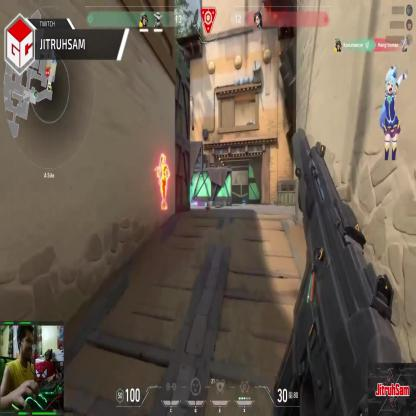enemy: (154, 153, 170, 210)
enemy_head: (161, 154, 166, 166)
